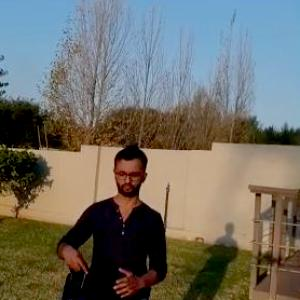follow: (43, 139, 171, 299)
